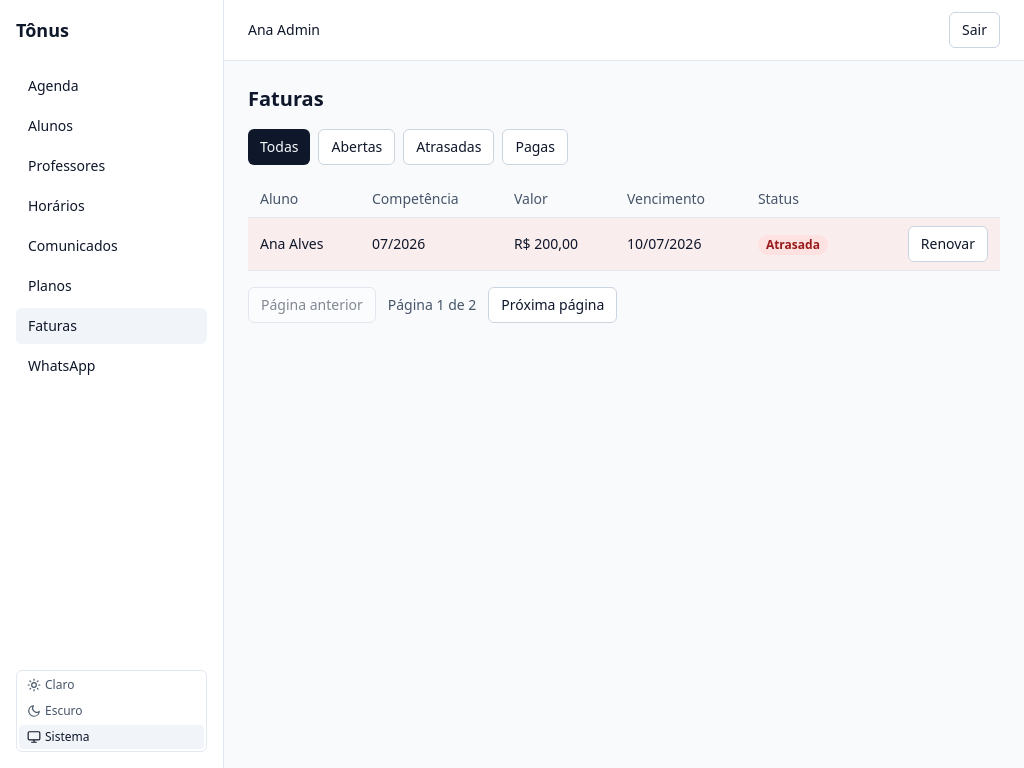
Test: paginação › navega para a próxima página e leva o filtro junto
Click the button "Atrasadas" at (449, 147), box left=403, top=129, right=494, bottom=165
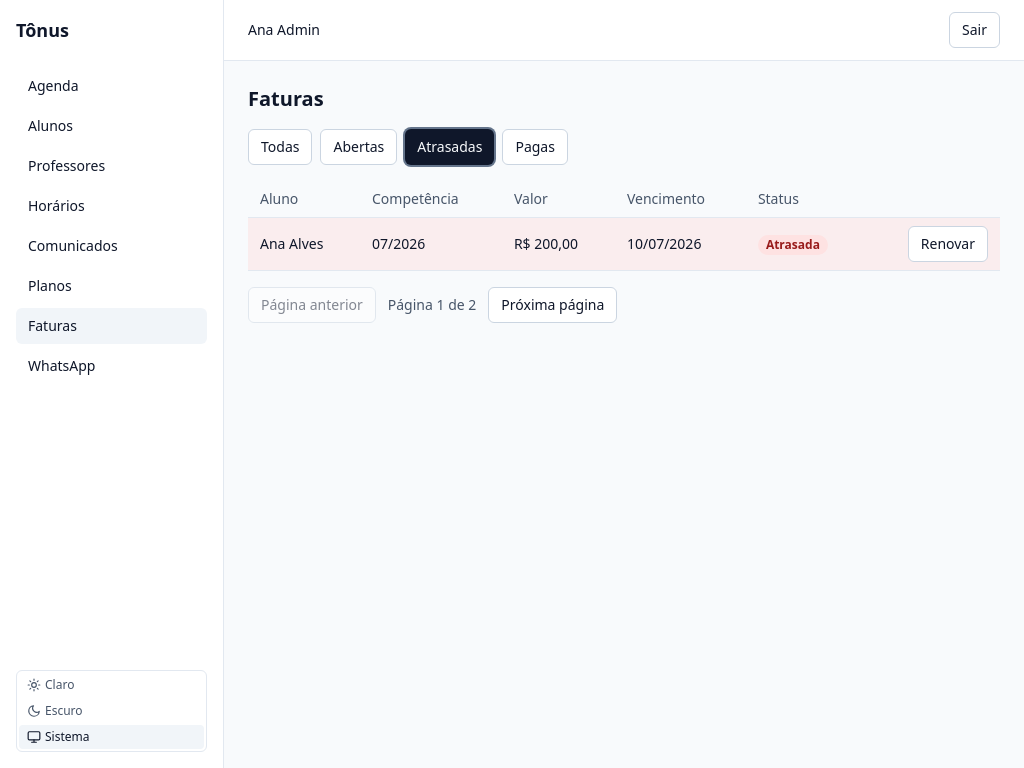
Click the button "Próxima página" at (553, 305), box left=488, top=287, right=617, bottom=323
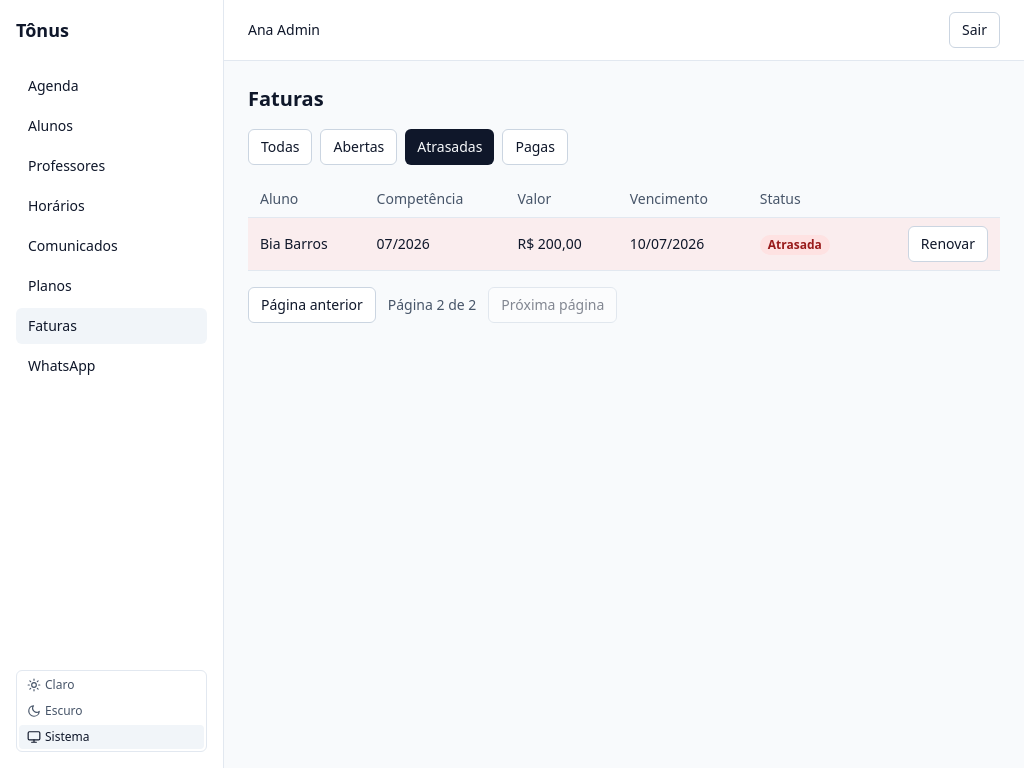
Expected: the row "Bia Barros 07/2026 R$ 200,00 10/07/2026 Atrasada Renovar" is shown, left=248, top=218, right=1000, bottom=270
